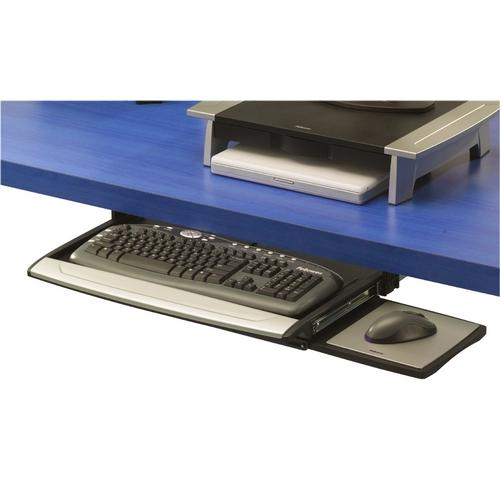Teclado: (64, 212, 348, 321)
